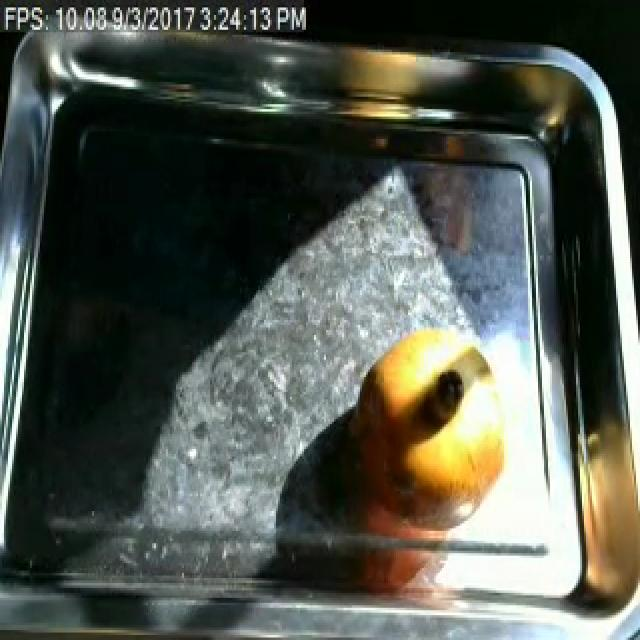fruit: (340, 318, 520, 546)
